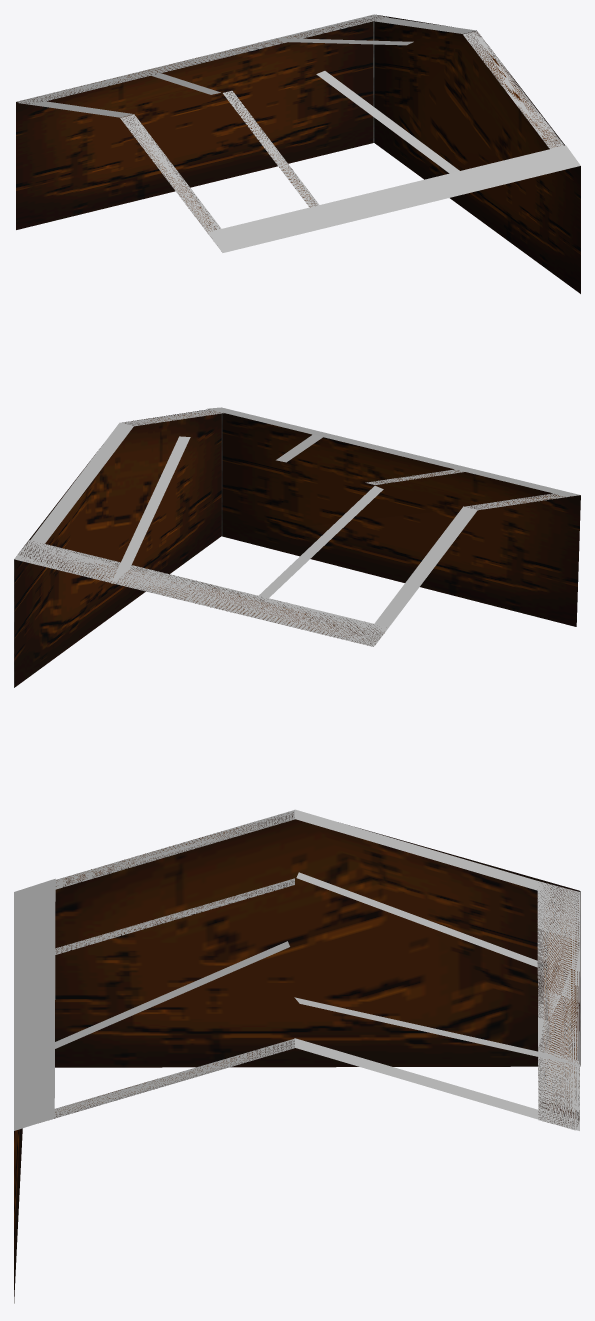
Rendered from Dachluke_Klein [Kaputt]_1512.glb.
3 views of the same model, one above another, from view 1: azimuth 30°, elevation 25°; view 2: azimuth 150°, elevation 25°; view 3: azimuth 270°, elevation 25° (orthographic). The views are drawn at different scales.
Visible parts, largest first — view 1: pPlaneShape88, pPlaneShape87, pPlaneShape78, pPlaneShape77 (×2), pPlaneShape82 (×2), pPlaneShape79 (×2), pPlaneShape81, pPlaneShape80, pPlaneShape84, pPlaneShape86, pPlaneShape83; view 2: pPlaneShape89, pPlaneShape87, pPlaneShape77 (×2), pPlaneShape86, pPlaneShape83, pPlaneShape78, pPlaneShape84, pPlaneShape85, pPlaneShape79, pPlaneShape82; view 3: pPlaneShape90, pPlaneShape77 (×2), pPlaneShape78, pPlaneShape79 (×2), pPlaneShape83, pPlaneShape86, pPlaneShape82, pPlaneShape85, pPlaneShape81, pPlaneShape80, pPlaneShape84, pPlaneShape89.
Part boxes in pixels (x1,y1,x2,y2): pPlaneShape88: (16, 21, 373, 229); pPlaneShape87: (374, 14, 580, 293); pPlaneShape78: (208, 145, 580, 252); pPlaneShape77 (×2): (16, 14, 388, 104); pPlaneShape82 (×2): (463, 31, 564, 148); pPlaneShape79 (×2): (120, 114, 221, 248); pPlaneShape81: (316, 71, 459, 173); pPlaneShape80: (223, 90, 319, 207); pPlaneShape84: (276, 38, 413, 45); pPlaneShape86: (18, 101, 134, 117); pPlaneShape83: (374, 17, 476, 33); pPlaneShape89: (221, 413, 580, 626); pPlaneShape87: (14, 409, 221, 687); pPlaneShape77 (×2): (14, 540, 388, 646); pPlaneShape86: (374, 506, 477, 645); pPlaneShape83: (30, 422, 133, 543); pPlaneShape78: (207, 407, 580, 496); pPlaneShape84: (111, 436, 190, 583); pPlaneShape85: (258, 486, 383, 598); pPlaneShape79: (465, 493, 578, 510); pPlaneShape82: (121, 409, 223, 426); pPlaneShape90: (55, 819, 580, 1067); pPlaneShape77 (×2): (537, 881, 579, 1130); pPlaneShape78: (14, 878, 55, 1130); pPlaneShape79 (×2): (55, 810, 294, 889); pPlaneShape83: (294, 1038, 575, 1130); pPlaneShape86: (294, 809, 537, 890); pPlaneShape82: (41, 1038, 294, 1122); pPlaneShape85: (296, 872, 537, 967); pPlaneShape81: (55, 941, 289, 1048); pPlaneShape80: (55, 878, 294, 954); pPlaneShape84: (294, 997, 580, 1066); pPlaneShape89: (14, 1128, 22, 1303).
Size of the model in its own units: 0.2771 by 0.1408 by 0.276.
25 materials, 15 textured.
